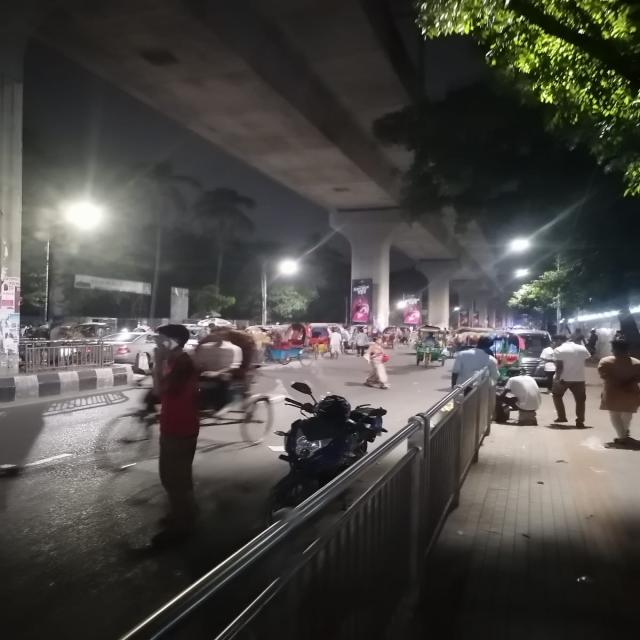person: (364, 336, 389, 389)
